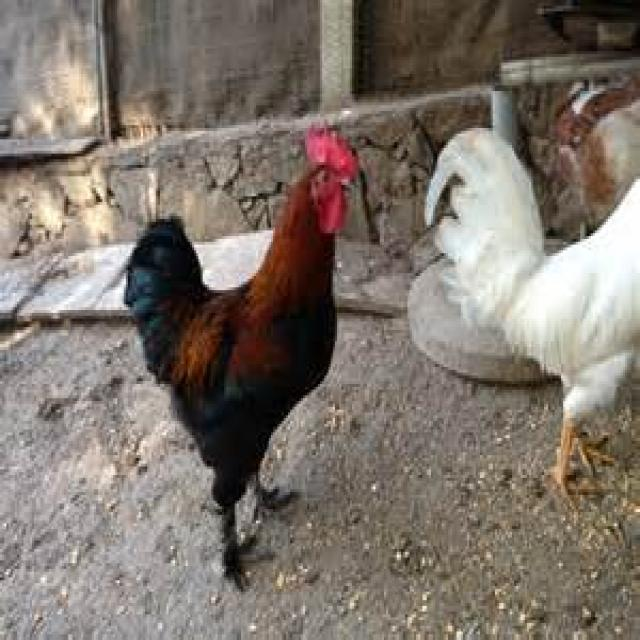chicken: (122, 130, 356, 591), (426, 125, 640, 486)
